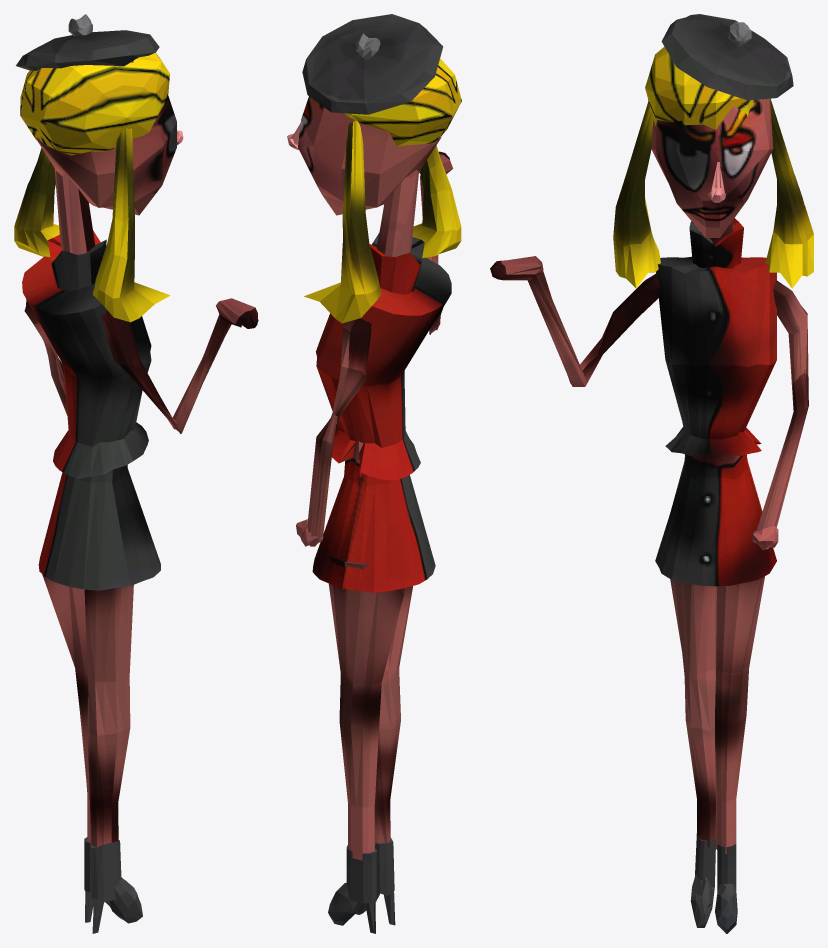
Rendered from RogCof.glb.
The picture shows the model from 3 angles, left to right: view 1: azimuth 30°, elevation 25°; view 2: azimuth 150°, elevation 25°; view 3: azimuth 270°, elevation 25°; orthographic projection.
Parts seen in each view (by area): view 1: RogCof; view 2: RogCof; view 3: RogCof.
Boxes of the visible parts, x1,y1,x2,y2 form: RogCof: [14, 14, 258, 933]; RogCof: [287, 14, 461, 933]; RogCof: [490, 14, 813, 933].
Size of the model in its own units: 53 by 280 by 92.1.
Materials: 1 (1 with a texture image).
